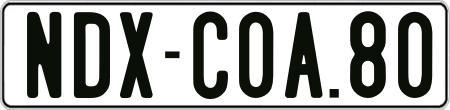0: (237, 12, 275, 104), (395, 12, 429, 104)
8: (347, 9, 385, 101)
A: (283, 9, 324, 98)
C: (192, 10, 230, 101)
D: (72, 12, 110, 100)
N: (27, 11, 63, 98)
X: (118, 10, 151, 99)
